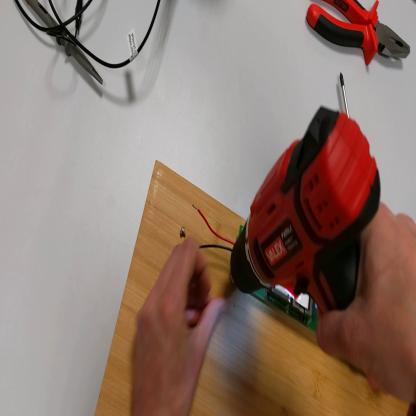electric screwdriver: (225, 126, 388, 317)
hand: (314, 188, 416, 401), (132, 241, 227, 414)
high voltage board: (194, 208, 320, 335)
oscilloscope probe tip: (29, 3, 104, 86)
pliers: (306, 1, 412, 69)
screwdriver-: (341, 77, 354, 121)
working area: (96, 163, 411, 416)
